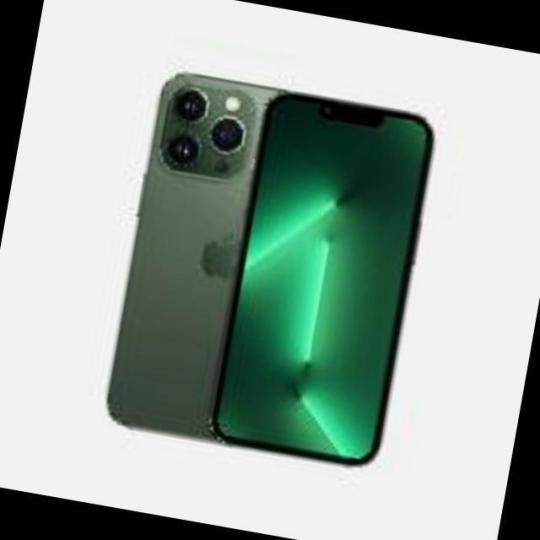phone: (94, 54, 274, 451), (258, 85, 439, 457)
